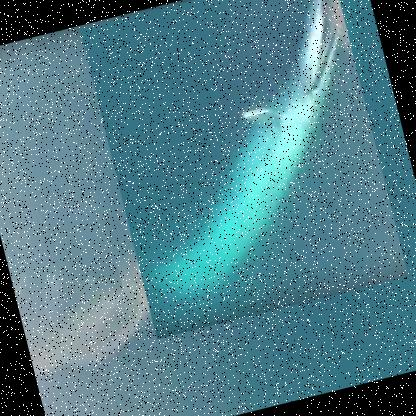blue_whale: (78, 0, 409, 340)
